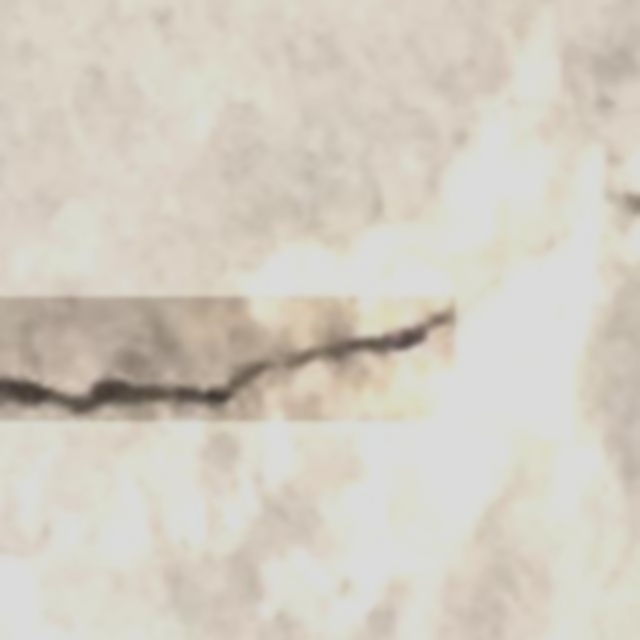SurfaceCrack: (0, 292, 454, 436)
